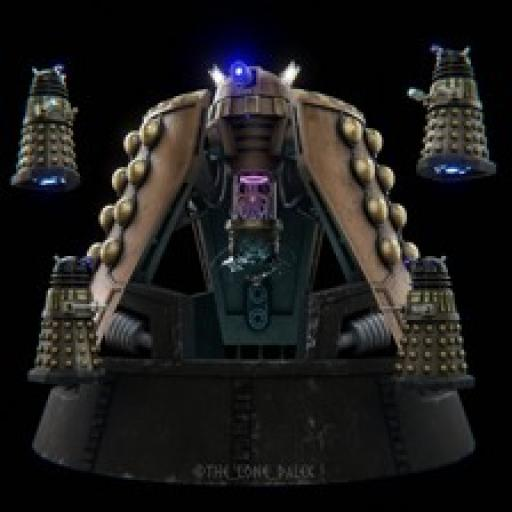dalek: (27, 58, 478, 487), (375, 254, 480, 395), (405, 41, 499, 178), (7, 55, 88, 194), (29, 252, 108, 386)
